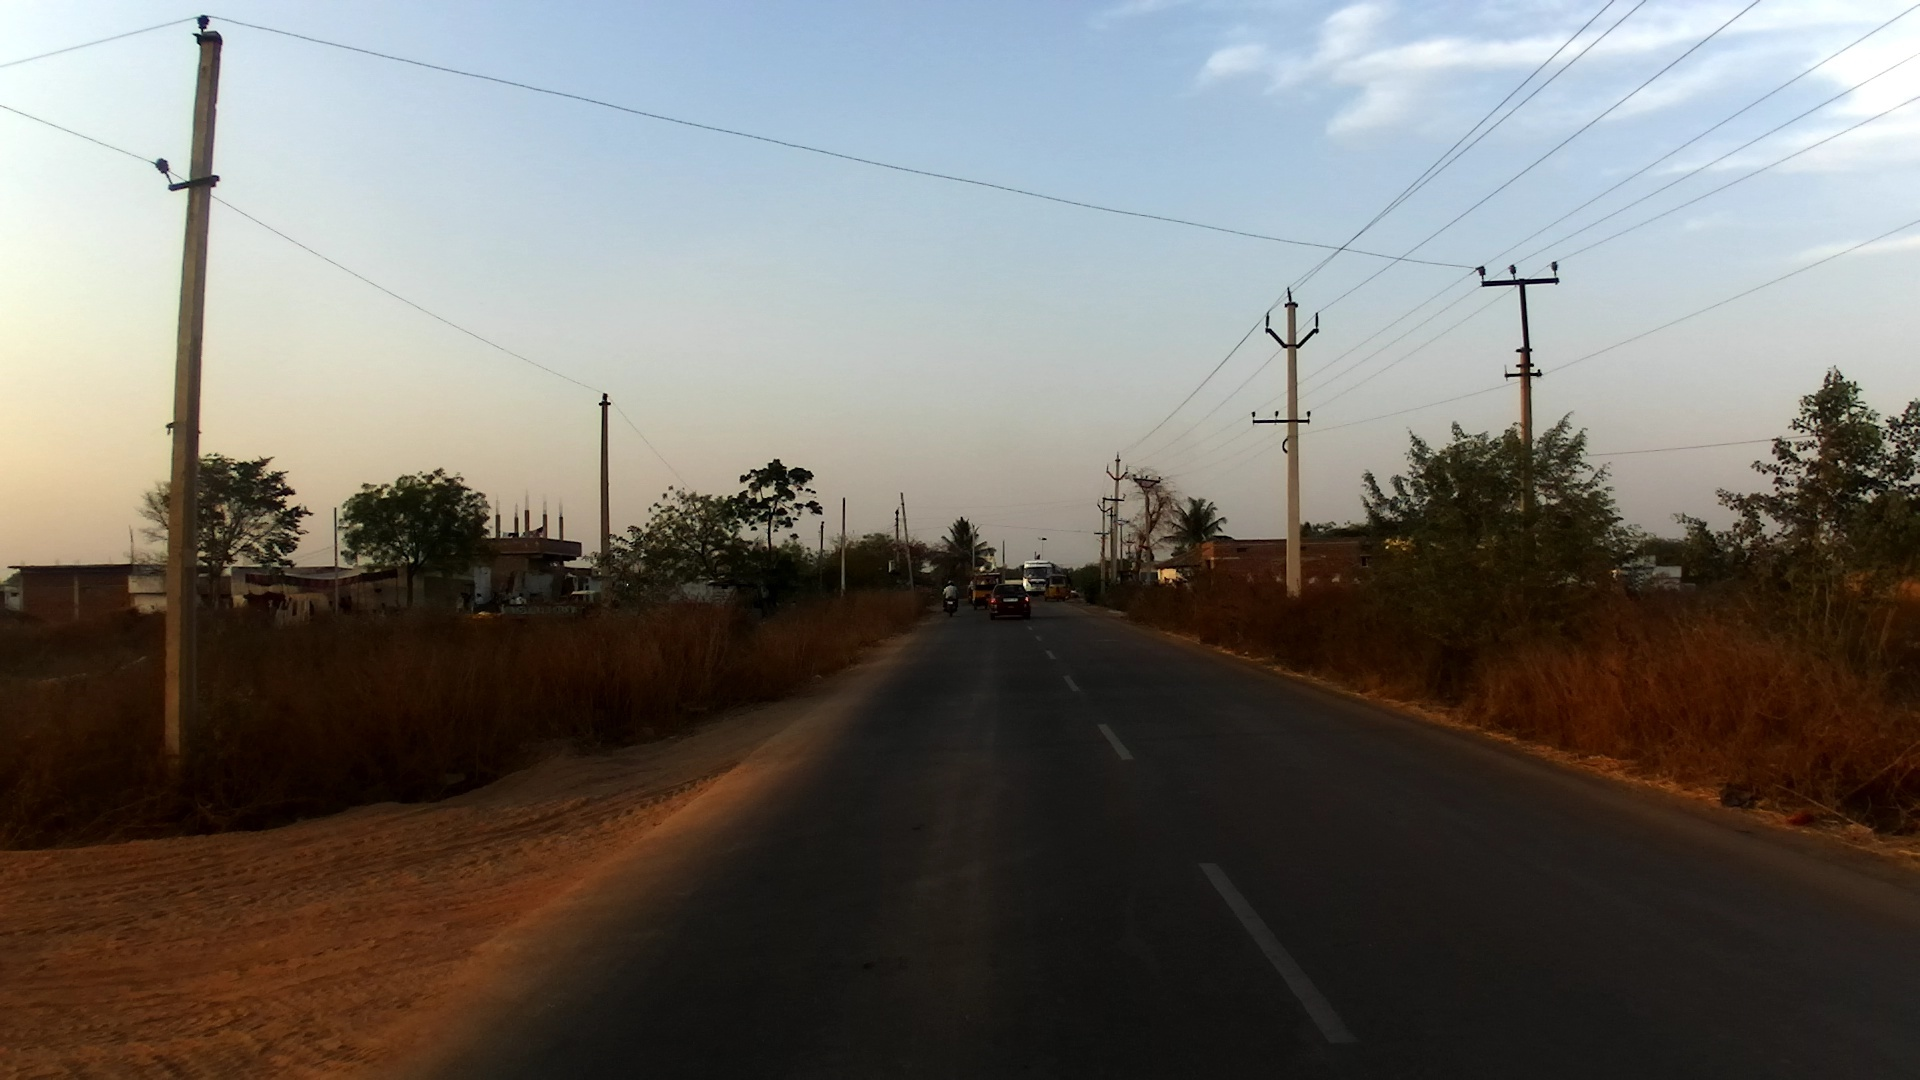autorickshaw: (969, 565, 1006, 613), (1045, 573, 1069, 603)
bus: (1021, 560, 1067, 596)
car: (988, 583, 1031, 621), (967, 582, 976, 603)
motorcycle: (940, 588, 961, 620)
rider: (941, 580, 963, 613)
